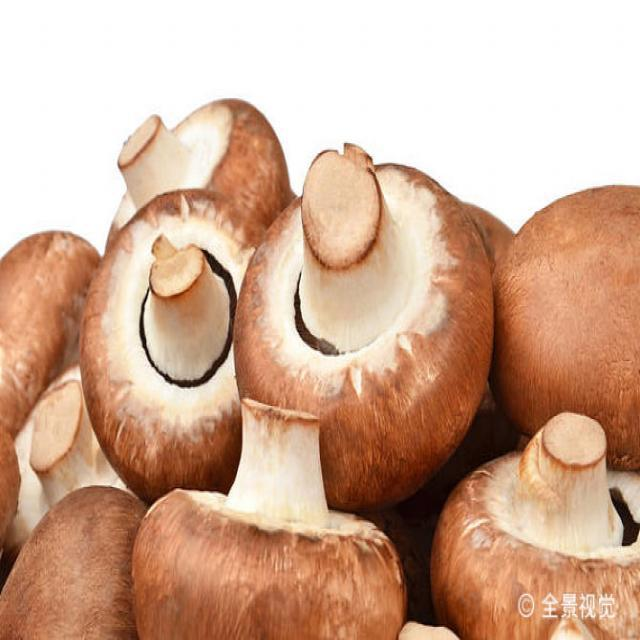Agaricus bisporus: (240, 152, 489, 499), (134, 402, 407, 640), (81, 182, 271, 492), (483, 181, 640, 471), (439, 418, 640, 640), (97, 96, 290, 250)
